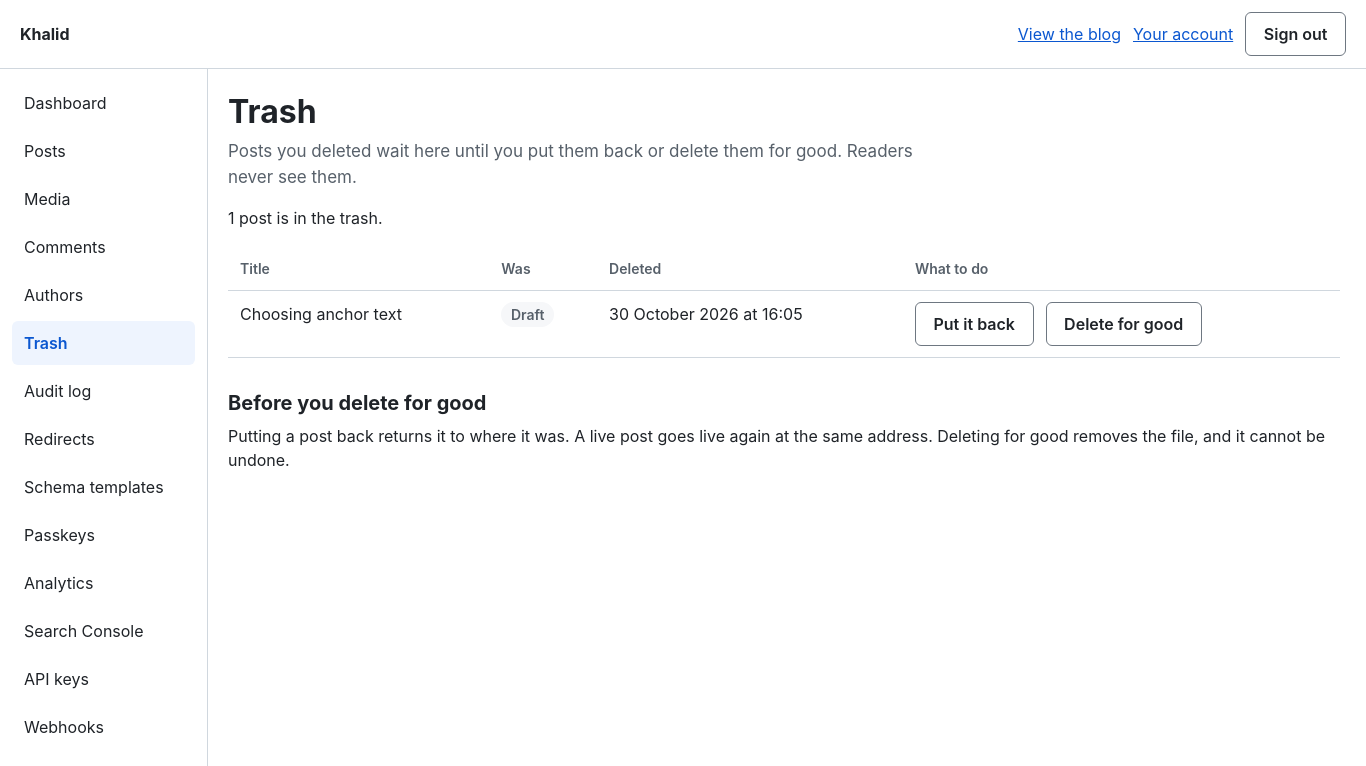
Test: the trash › asks once more before it deletes a post for good
Click the button "Delete for good" at [1124, 324], box x1=1046 y1=302 x2=1202 y2=346
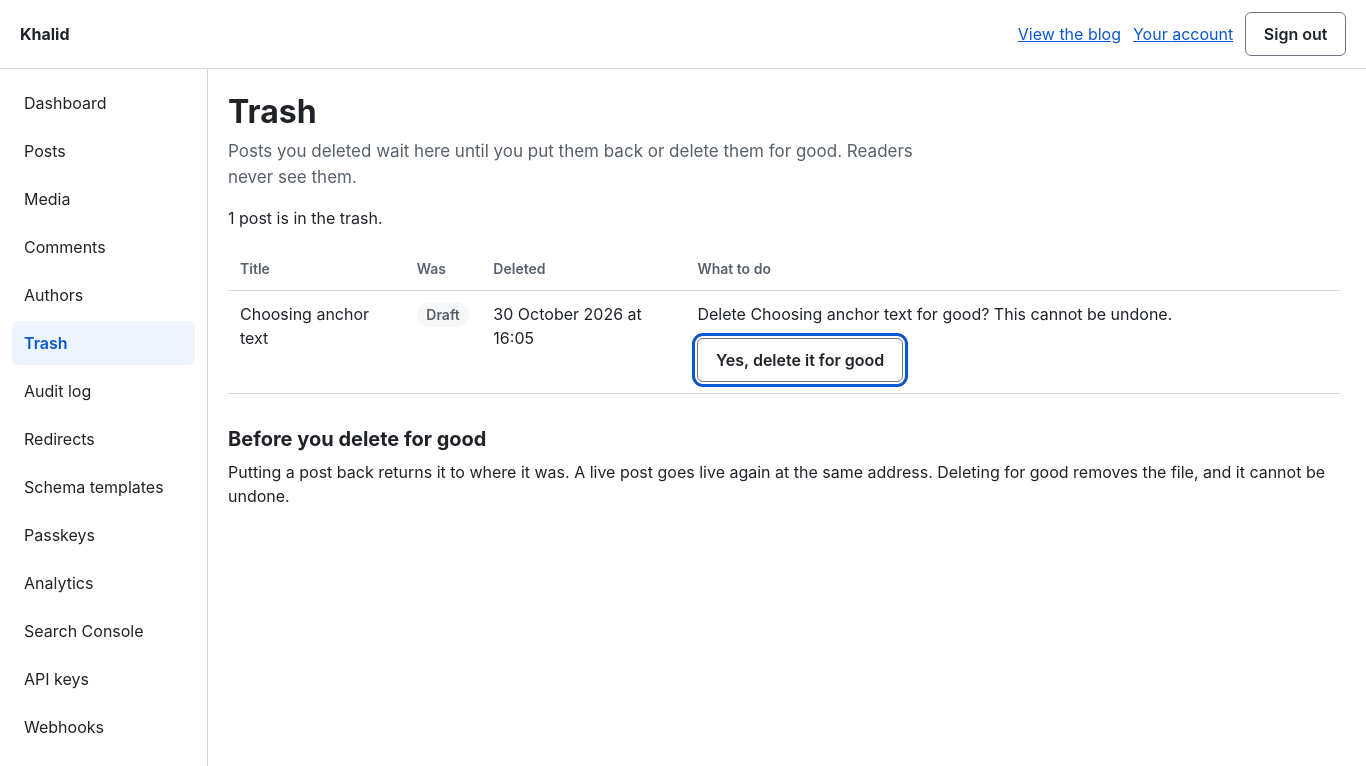
Click the button "Yes, delete it for good" at [800, 360], box x1=697 y1=338 x2=903 y2=382
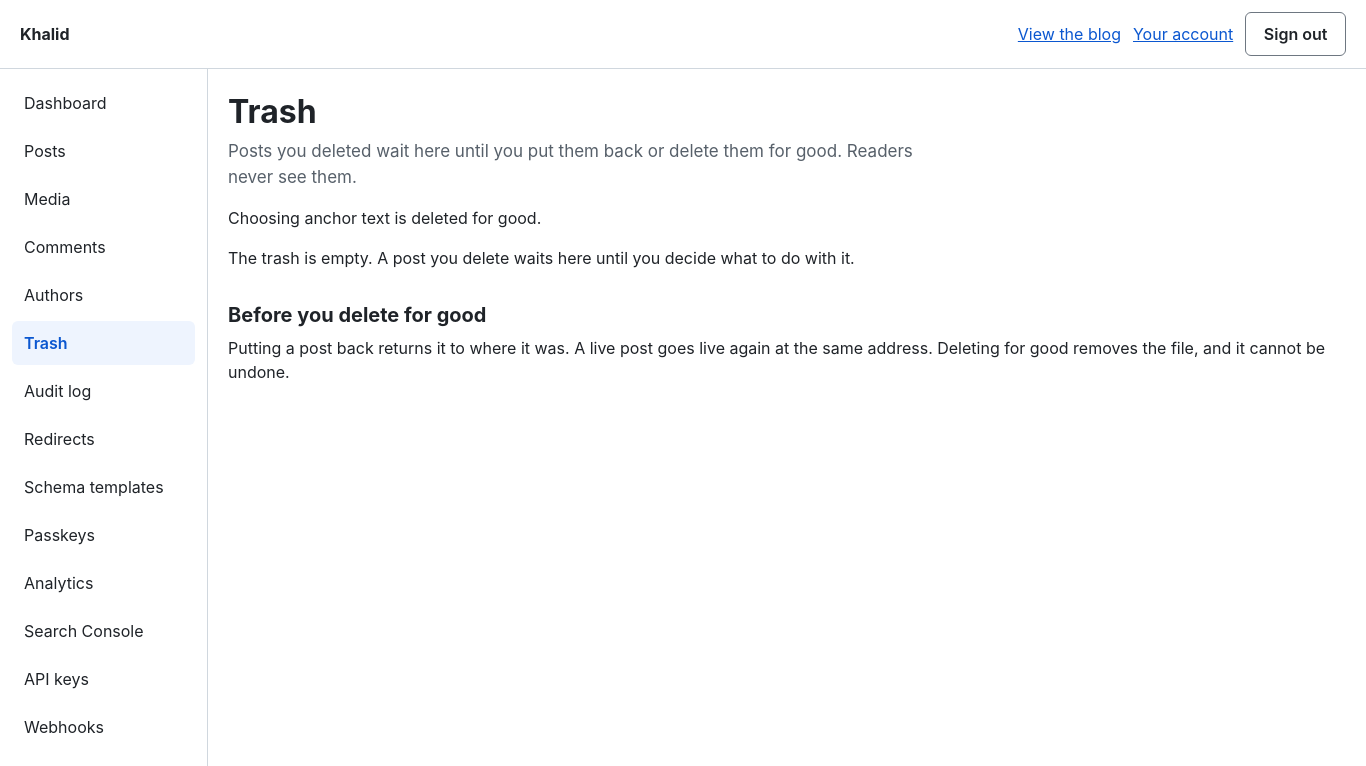
Result: the text "The trash is empty. A post you delete waits here until you decide what to do with it." is shown at x1=228 y1=248 x2=855 y2=268
